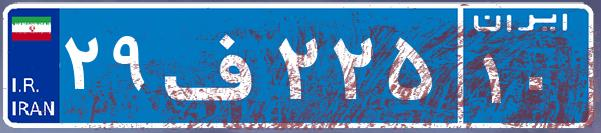0: (525, 38, 570, 115)
1: (475, 38, 525, 113)
2: (273, 28, 330, 110), (330, 28, 385, 110), (57, 26, 110, 107)
5: (385, 28, 445, 110)
9: (110, 28, 158, 105)
ف: (158, 15, 273, 115)
